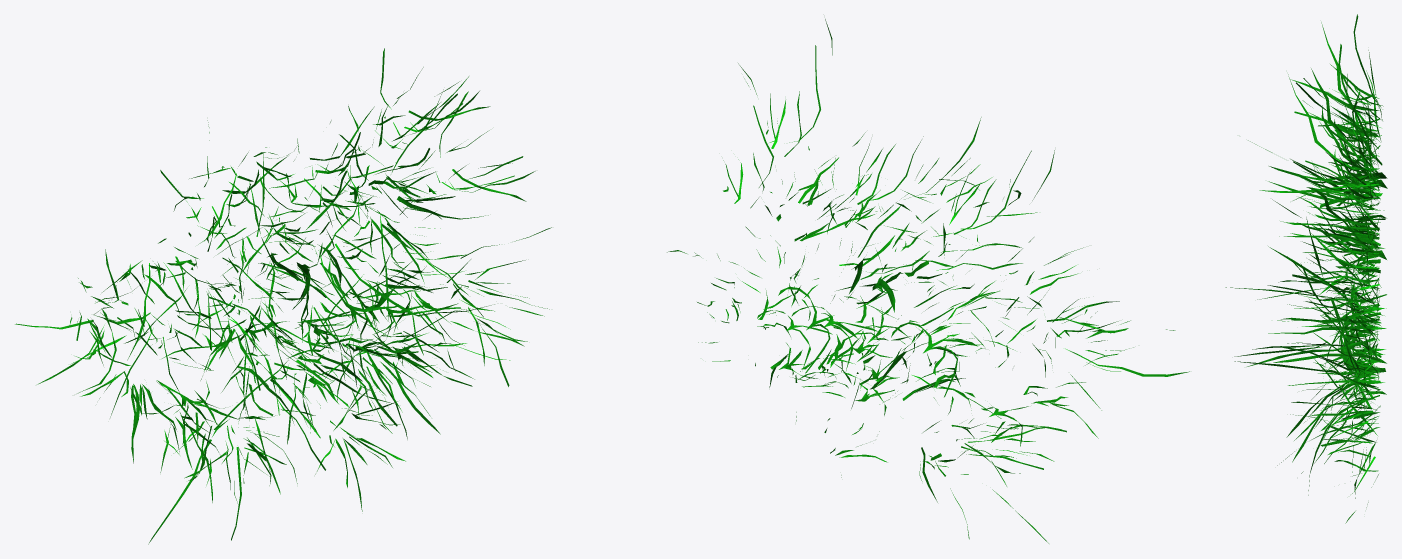
Rendered from TundraGrass_LOD1_Var5.gltf.
The picture shows the model from 3 angles, left to right: view 1: azimuth 30°, elevation 25°; view 2: azimuth 150°, elevation 25°; view 3: azimuth 270°, elevation 25°; orthographic projection. The views are drawn at different scales.
Parts seen in each view (by area): view 1: lods_0; view 2: lods_0; view 3: lods_0.
Boxes of the visible parts, bbox=[...] form: lods_0: bbox=[15, 48, 551, 544]; lods_0: bbox=[667, 19, 1189, 543]; lods_0: bbox=[1225, 14, 1387, 523].
Bounding box in the file's own units: 1.93 × 1.55 × 0.4686.
1 material, 1 textured.
